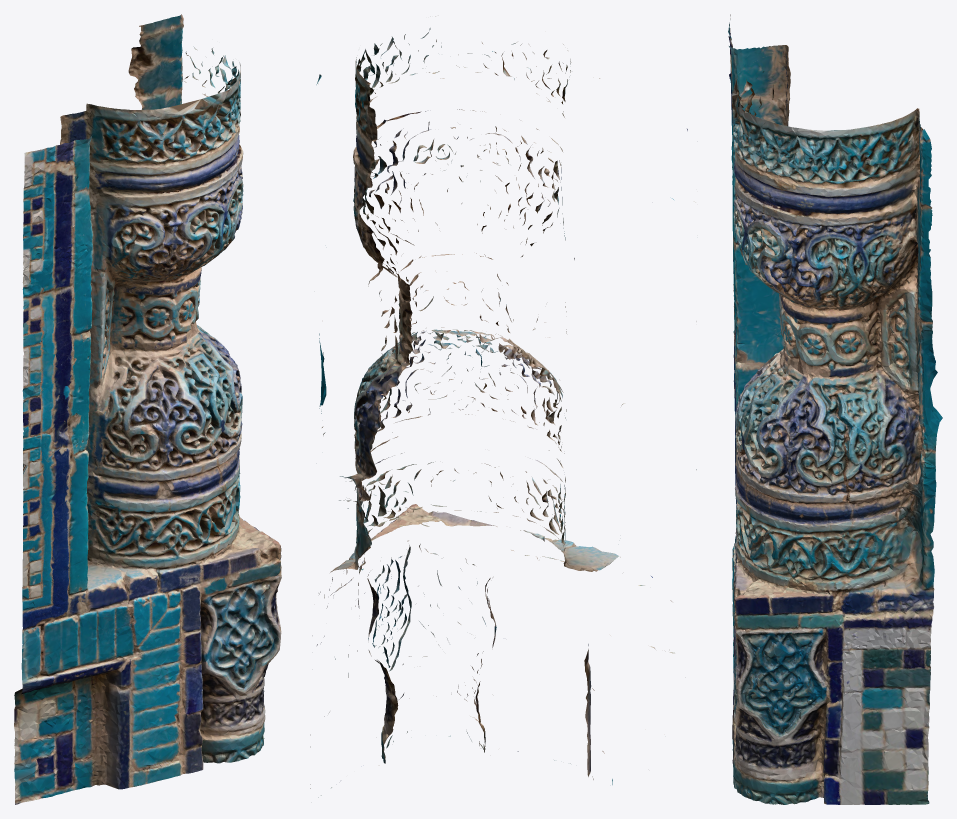
File: book-4-mosaic.glb
3 renders of one model, left to right at view 1: azimuth 30°, elevation 25°; view 2: azimuth 150°, elevation 25°; view 3: azimuth 270°, elevation 25°, orthographic. The views are drawn at different scales.
Visible parts, largest first — view 1: m-white; view 2: m-white; view 3: m-white.
Boxes of the visible parts, box(x1,y1,x2,y2) form: m-white: box(14, 14, 281, 804); m-white: box(310, 15, 696, 797); m-white: box(728, 14, 942, 804).
Bounding box in the file's own units: 2.39 × 5.84 × 1.7.
1 material, 1 textured.
